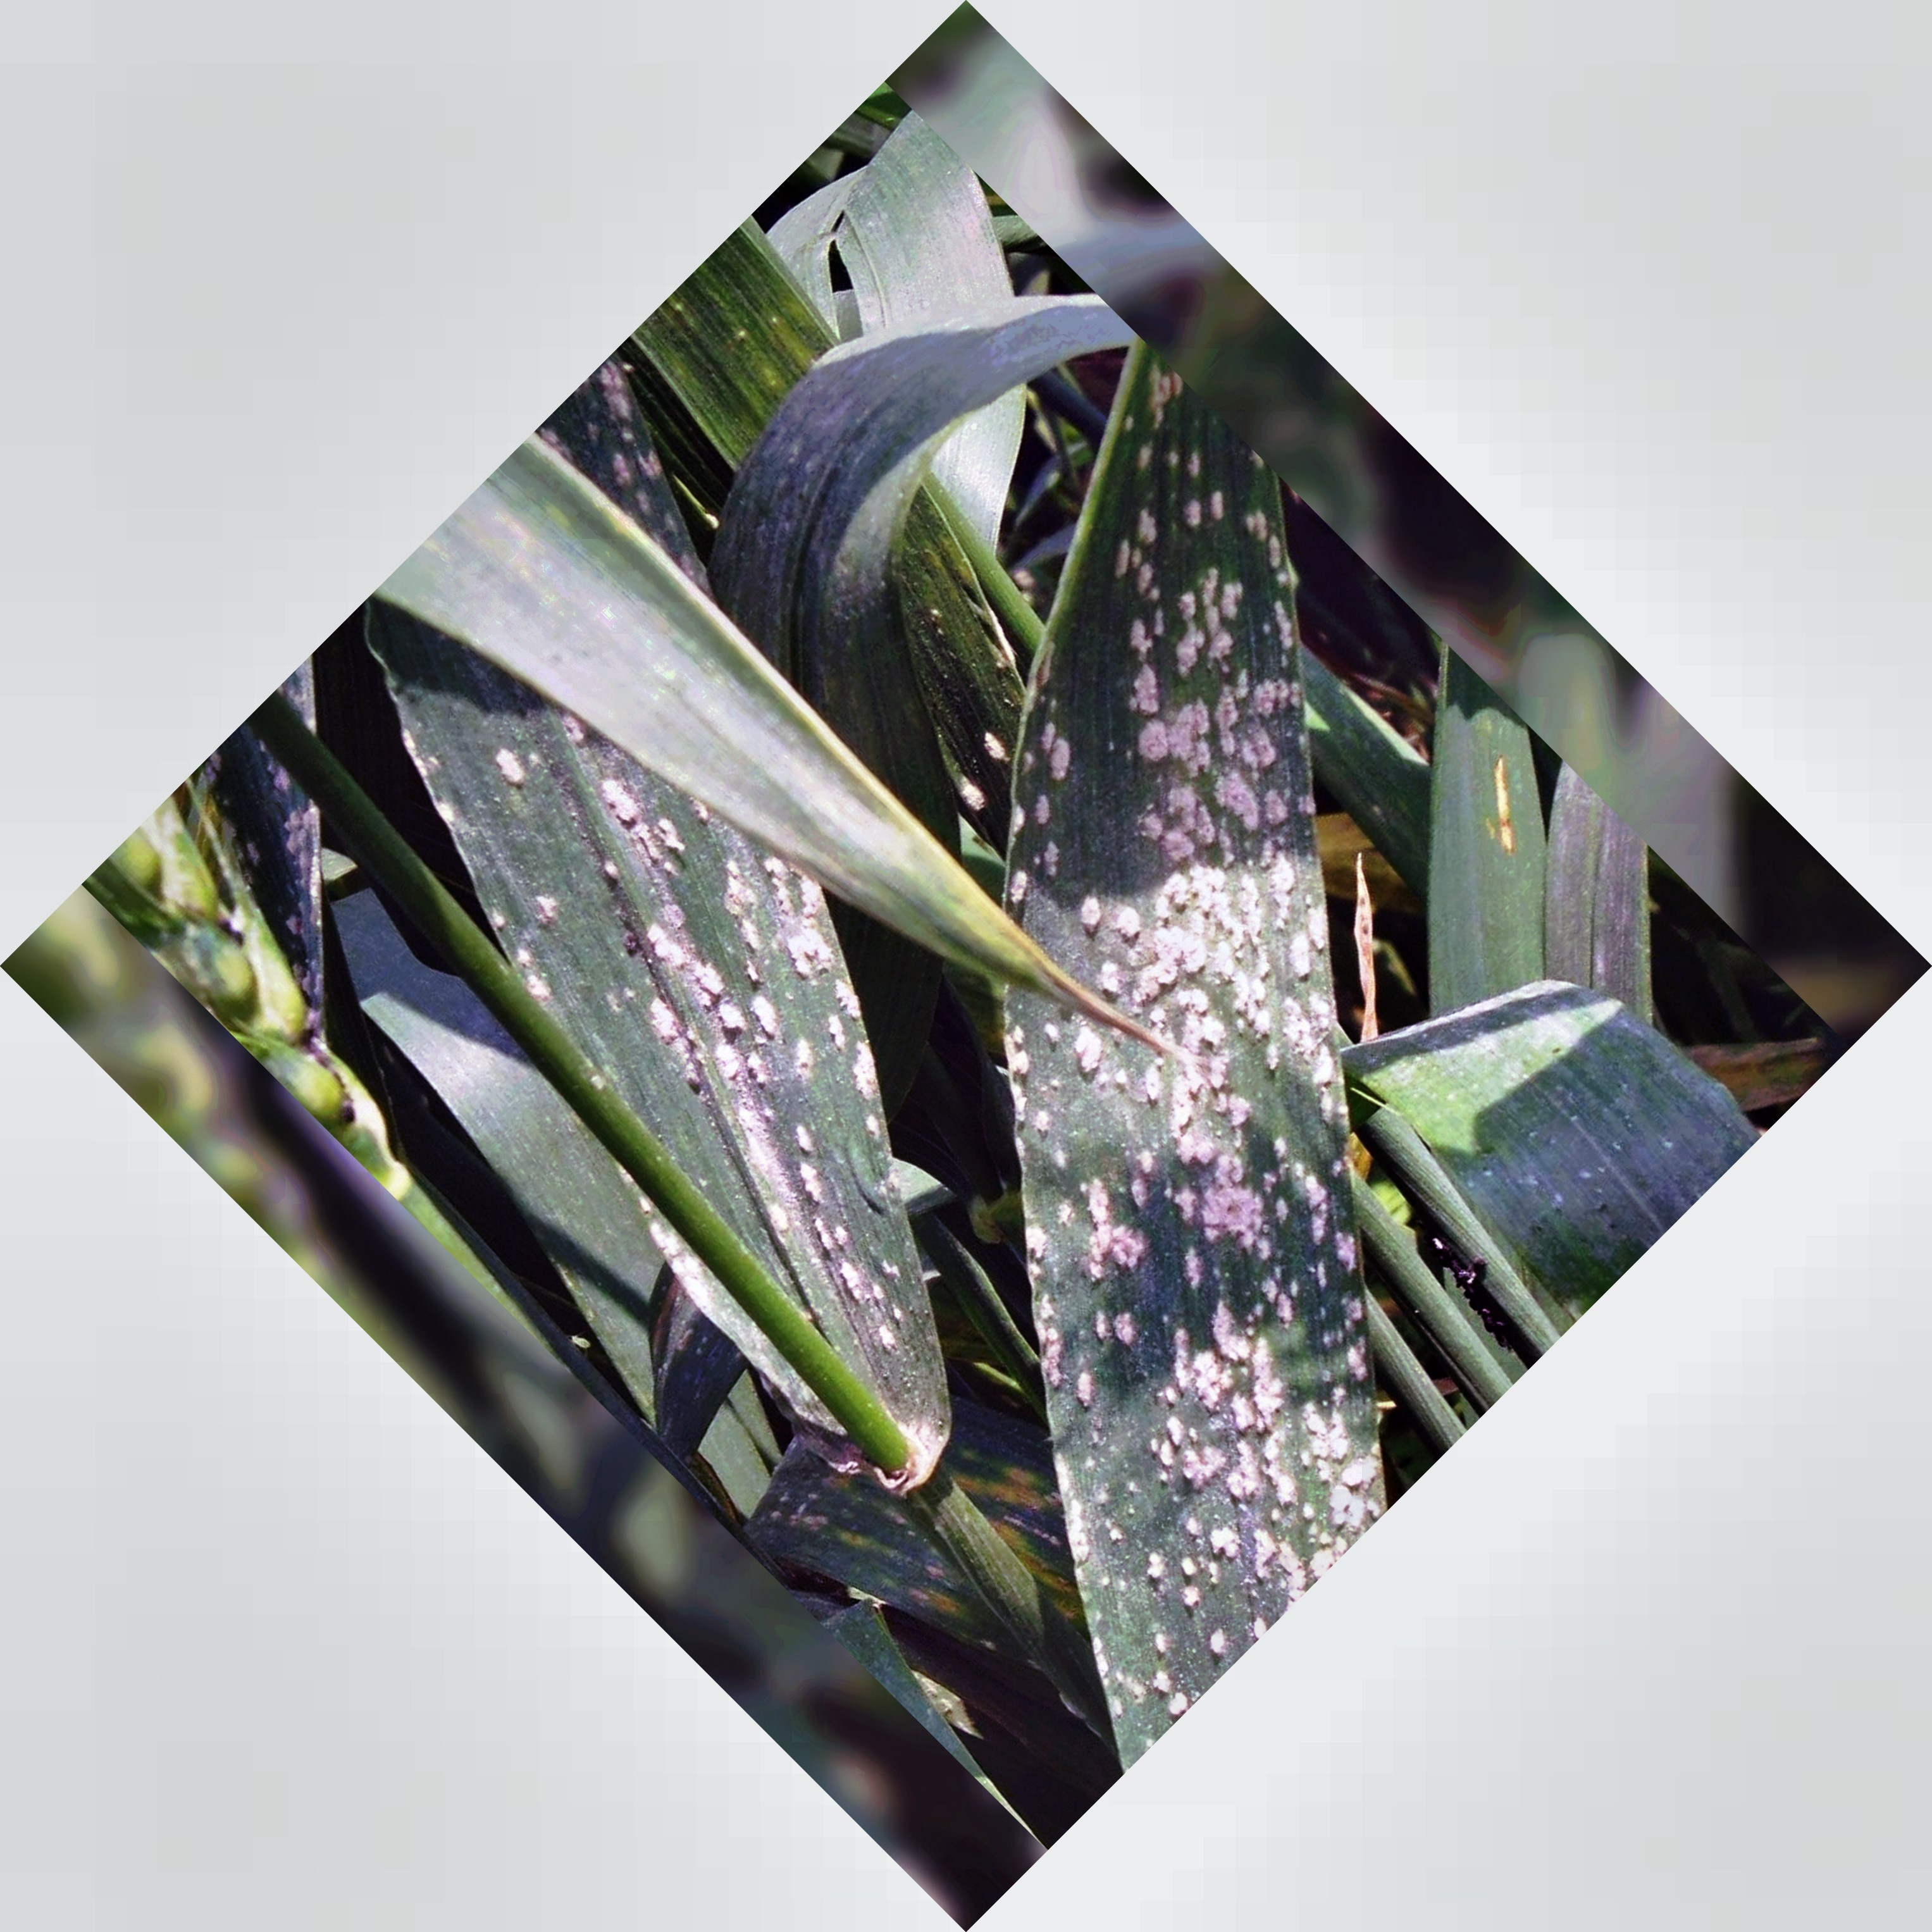Powdery Mildew: (1031, 478, 1408, 1615), (556, 750, 924, 1334)
